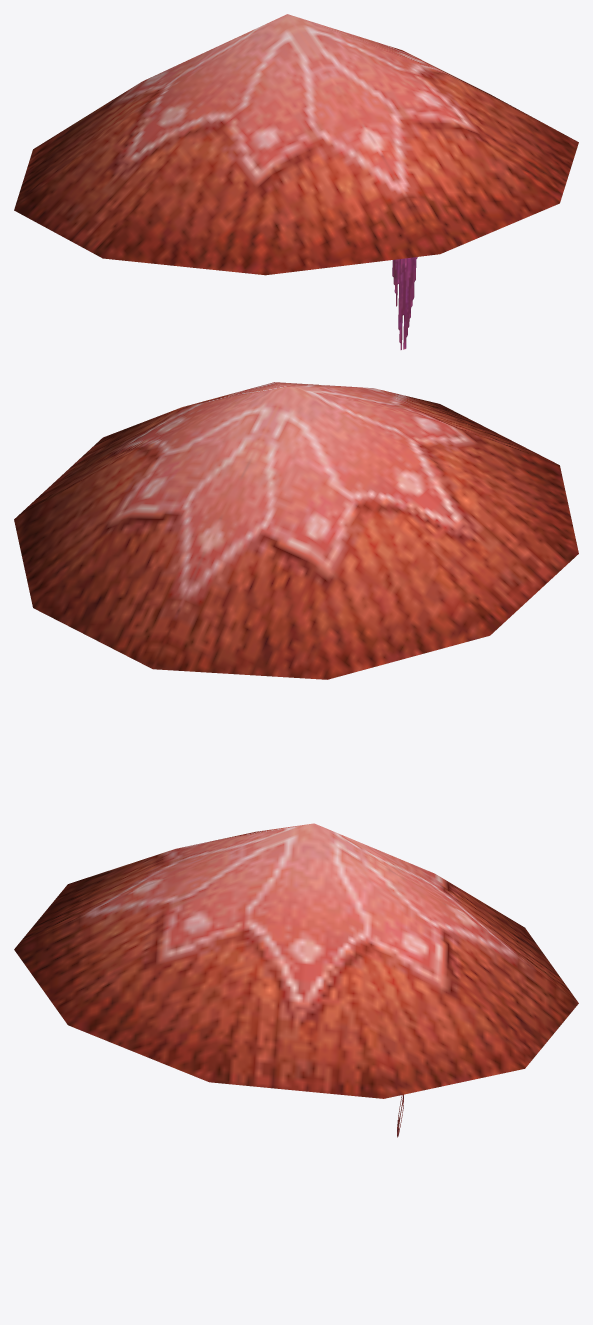
File: clothes_02_ha.glb
The picture shows the model from 3 angles, top to bottom: view 1: azimuth 30°, elevation 25°; view 2: azimuth 150°, elevation 25°; view 3: azimuth 270°, elevation 25°; orthographic projection.
Parts seen in each view (by area): view 1: clothes_02_ha; view 2: clothes_02_ha; view 3: clothes_02_ha.
Boxes of the visible parts, <box> form: clothes_02_ha: <box>14,14,578,349</box>; clothes_02_ha: <box>14,382,578,679</box>; clothes_02_ha: <box>14,823,578,1137</box>.
Size of the model in its own units: 0.4666 by 0.3828 by 0.488.
Materials: 1 (1 with a texture image).
